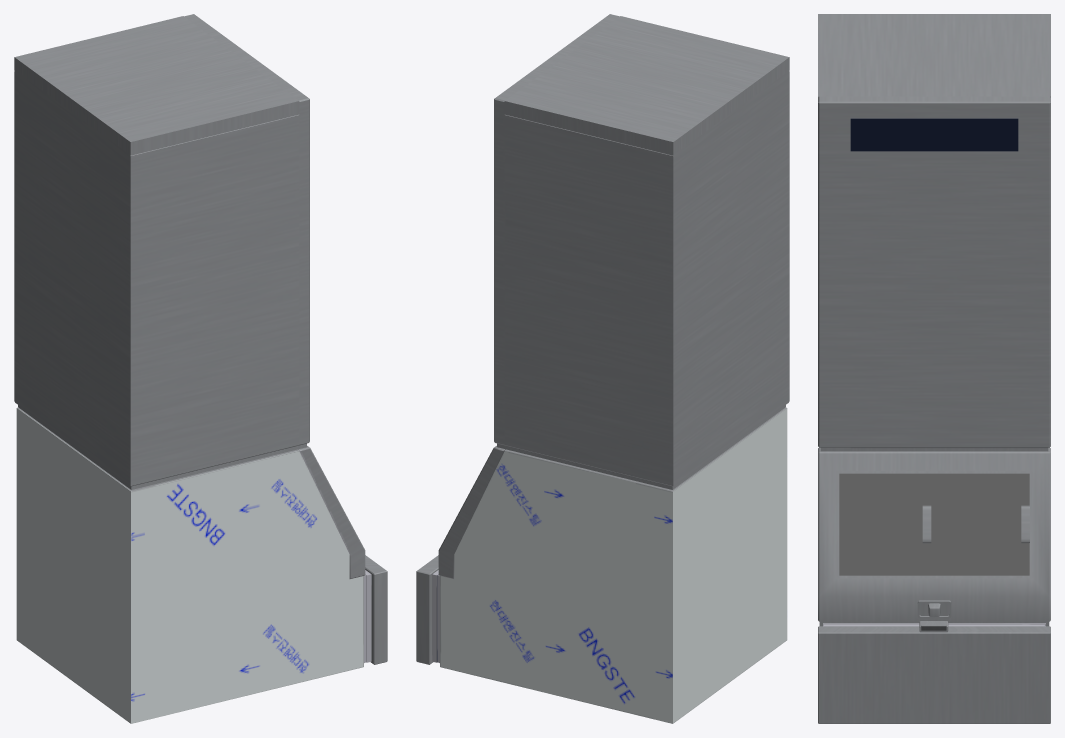
Rendered from LC_3091_Ice_machine_LOD3.fbx.
3 renders of one model, left to right at view 1: azimuth 30°, elevation 25°; view 2: azimuth 150°, elevation 25°; view 3: azimuth 270°, elevation 25°, orthographic.
Visible parts, largest first — view 1: LC_3091_IM_L3; view 2: LC_3091_IM_L3; view 3: LC_3091_IM_L3, polySurface3, polySurface4.
Part boxes in pixels (x1,y1,x2,y2): LC_3091_IM_L3: [14, 14, 387, 723]; LC_3091_IM_L3: [416, 14, 789, 723]; LC_3091_IM_L3: [818, 14, 1050, 723]; polySurface3: [839, 473, 934, 575]; polySurface4: [934, 473, 1029, 575].
Size of the model in its own units: 89.51 by 192 by 69.2.
2 materials, 2 textured.
